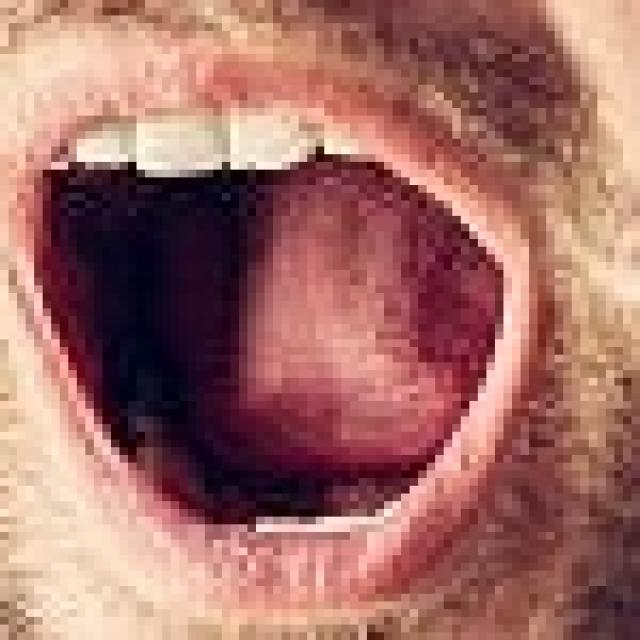open-mouth: (0, 70, 555, 610)
